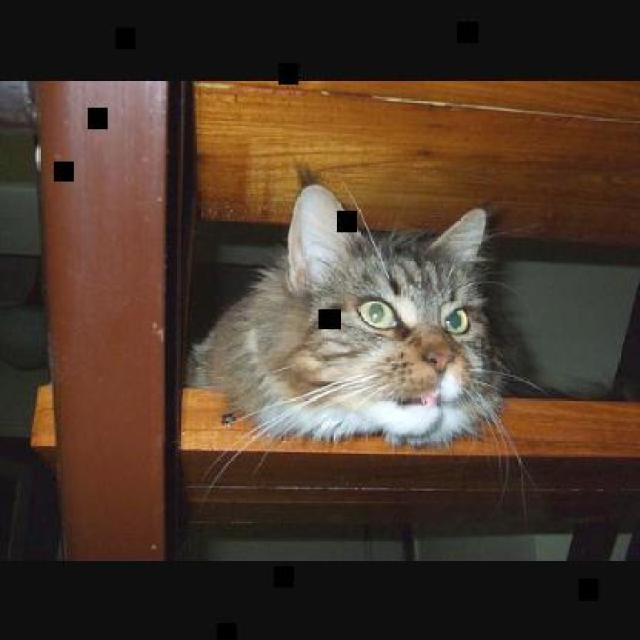unauthorized: (183, 178, 543, 516)
